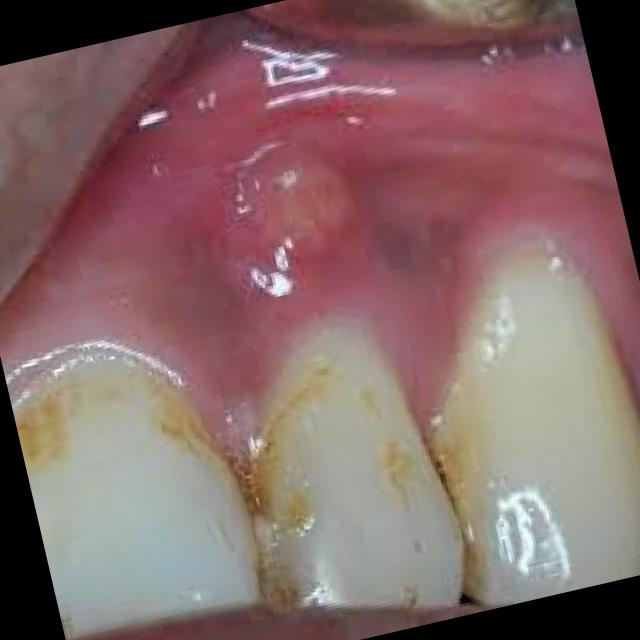abscess: (186, 133, 381, 322)
